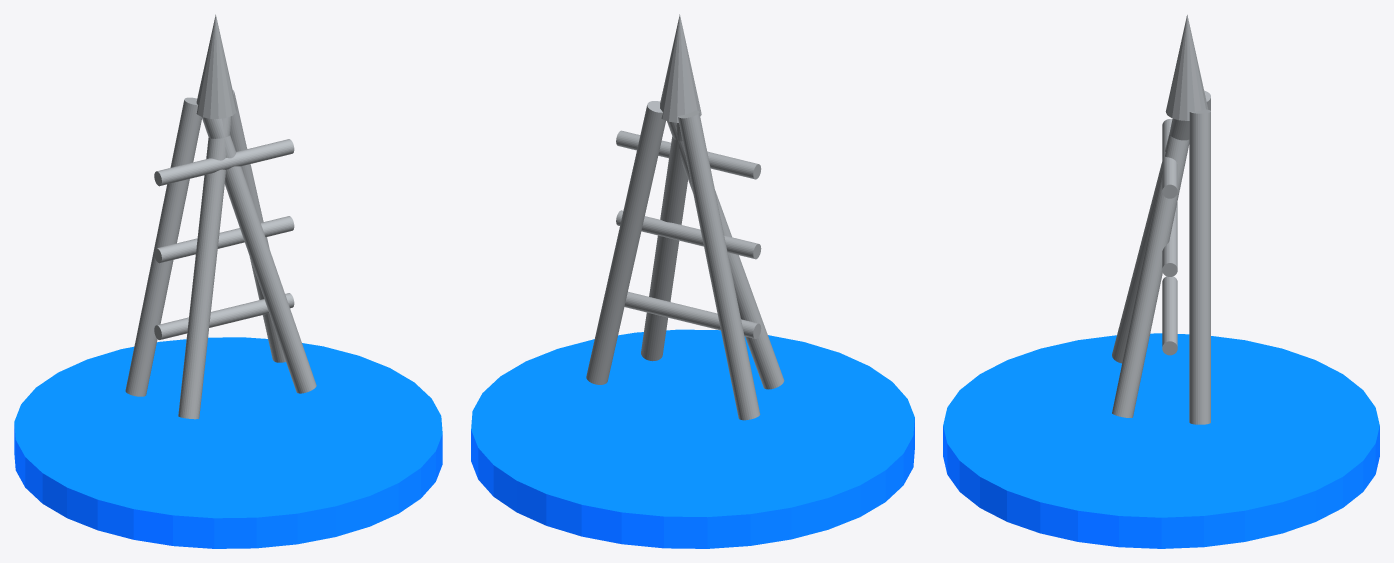
File: french_eiffel_tower.dae
The picture shows the model from 3 angles, left to right: view 1: azimuth 30°, elevation 25°; view 2: azimuth 150°, elevation 25°; view 3: azimuth 270°, elevation 25°; orthographic projection. The views are drawn at different scales.
Parts seen in each view (by area): view 1: 10_01_Popular_French_Eiffel_Tower_ROOT_base, 10_01_Popular_French_Eiffel_Tower_part_03, 10_01_Popular_French_Eiffel_Tower_part_01, 10_01_Popular_French_Eiffel_Tower_part_04, 10_01_Popular_French_Eiffel_Tower_part_08, 10_01_Popular_French_Eiffel_Tower_part_07, 10_01_Popular_French_Eiffel_Tower_part_02, 10_01_Popular_French_Eiffel_Tower_part_06, 10_01_Popular_French_Eiffel_Tower_part_05; view 2: 10_01_Popular_French_Eiffel_Tower_ROOT_base, 10_01_Popular_French_Eiffel_Tower_part_01, 10_01_Popular_French_Eiffel_Tower_part_02, 10_01_Popular_French_Eiffel_Tower_part_04, 10_01_Popular_French_Eiffel_Tower_part_03, 10_01_Popular_French_Eiffel_Tower_part_08, 10_01_Popular_French_Eiffel_Tower_part_05, 10_01_Popular_French_Eiffel_Tower_part_06, 10_01_Popular_French_Eiffel_Tower_part_07; view 3: 10_01_Popular_French_Eiffel_Tower_ROOT_base, 10_01_Popular_French_Eiffel_Tower_part_02, 10_01_Popular_French_Eiffel_Tower_part_04, 10_01_Popular_French_Eiffel_Tower_part_08, 10_01_Popular_French_Eiffel_Tower_part_03, 10_01_Popular_French_Eiffel_Tower_part_05, 10_01_Popular_French_Eiffel_Tower_part_07, 10_01_Popular_French_Eiffel_Tower_part_06.
Boxes of the visible parts, <box> form: 10_01_Popular_French_Eiffel_Tower_ROOT_base: <box>14,337,442,548</box>; 10_01_Popular_French_Eiffel_Tower_part_03: <box>178,116,231,419</box>; 10_01_Popular_French_Eiffel_Tower_part_01: <box>125,97,201,396</box>; 10_01_Popular_French_Eiffel_Tower_part_04: <box>201,117,316,393</box>; 10_01_Popular_French_Eiffel_Tower_part_08: <box>196,14,236,118</box>; 10_01_Popular_French_Eiffel_Tower_part_07: <box>154,139,294,186</box>; 10_01_Popular_French_Eiffel_Tower_part_02: <box>230,90,285,362</box>; 10_01_Popular_French_Eiffel_Tower_part_06: <box>154,216,294,263</box>; 10_01_Popular_French_Eiffel_Tower_part_05: <box>154,293,294,339</box>; 10_01_Popular_French_Eiffel_Tower_ROOT_base: <box>471,329,914,548</box>; 10_01_Popular_French_Eiffel_Tower_part_01: <box>677,110,760,420</box>; 10_01_Popular_French_Eiffel_Tower_part_02: <box>586,101,665,384</box>; 10_01_Popular_French_Eiffel_Tower_part_04: <box>641,123,687,361</box>; 10_01_Popular_French_Eiffel_Tower_part_03: <box>667,121,784,389</box>; 10_01_Popular_French_Eiffel_Tower_part_08: <box>660,14,701,122</box>; 10_01_Popular_French_Eiffel_Tower_part_05: <box>624,291,761,338</box>; 10_01_Popular_French_Eiffel_Tower_part_06: <box>616,210,761,259</box>; 10_01_Popular_French_Eiffel_Tower_part_07: <box>616,130,761,179</box>; 10_01_Popular_French_Eiffel_Tower_ROOT_base: <box>943,333,1379,548</box>; 10_01_Popular_French_Eiffel_Tower_part_02: <box>1189,109,1210,424</box>; 10_01_Popular_French_Eiffel_Tower_part_04: <box>1112,119,1189,417</box>; 10_01_Popular_French_Eiffel_Tower_part_08: <box>1165,15,1208,120</box>; 10_01_Popular_French_Eiffel_Tower_part_03: <box>1112,119,1189,363</box>; 10_01_Popular_French_Eiffel_Tower_part_05: <box>1162,276,1177,355</box>; 10_01_Popular_French_Eiffel_Tower_part_07: <box>1162,119,1177,198</box>; 10_01_Popular_French_Eiffel_Tower_part_06: <box>1162,202,1177,276</box>.
Size of the model in its own units: 0.76 by 0.85 by 0.76.
